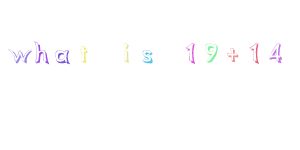+: (224, 44, 243, 68)
1: (180, 40, 201, 69), (247, 42, 265, 67)
4: (268, 39, 290, 70)
9: (203, 41, 221, 68)
a: (52, 46, 72, 68)
h: (32, 38, 53, 68)
i: (116, 42, 136, 66)
s: (141, 45, 156, 68)
t: (76, 41, 95, 69)
w: (5, 45, 33, 69)
